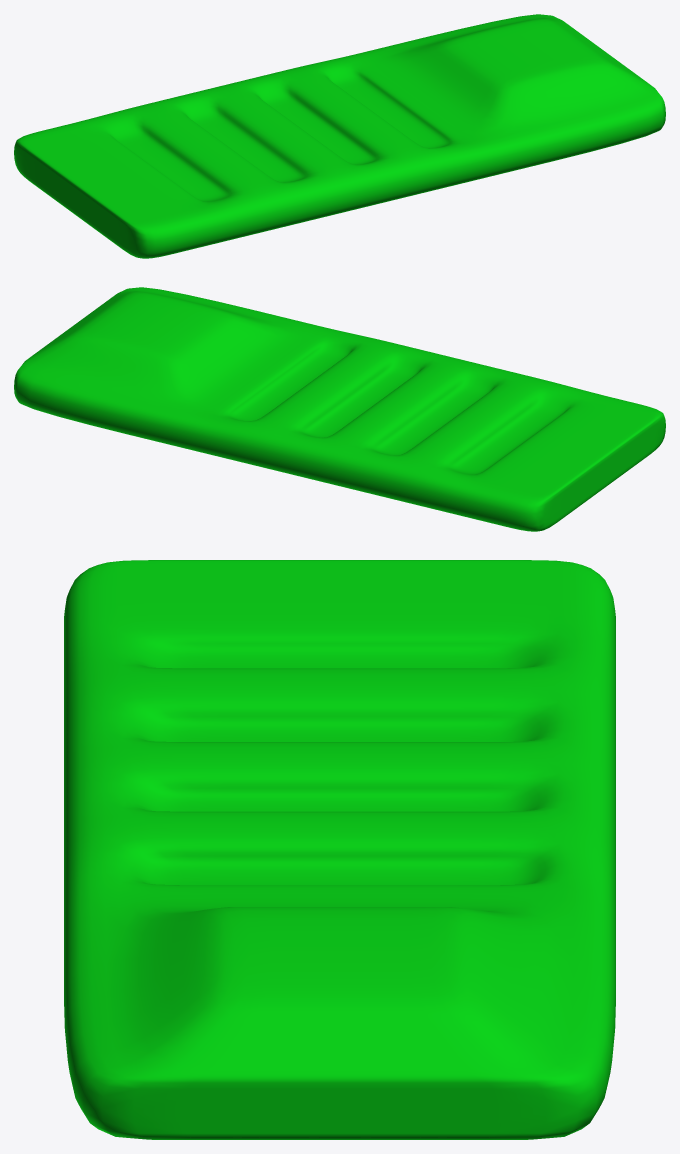
File: Matratzen.fbx
3 views of the same model, one above another, from view 1: azimuth 30°, elevation 25°; view 2: azimuth 150°, elevation 25°; view 3: azimuth 270°, elevation 25° (orthographic). The views are drawn at different scales.
Visible parts, largest first — view 1: Matraze; view 2: Matraze; view 3: Matraze.
Boxes of the visible parts, x1,y1,x2,y2 form: Matraze: (14, 14, 665, 258); Matraze: (14, 287, 665, 531); Matraze: (64, 560, 615, 1139).
Bounding box in the file's own units: 557 × 56.52 × 250.
